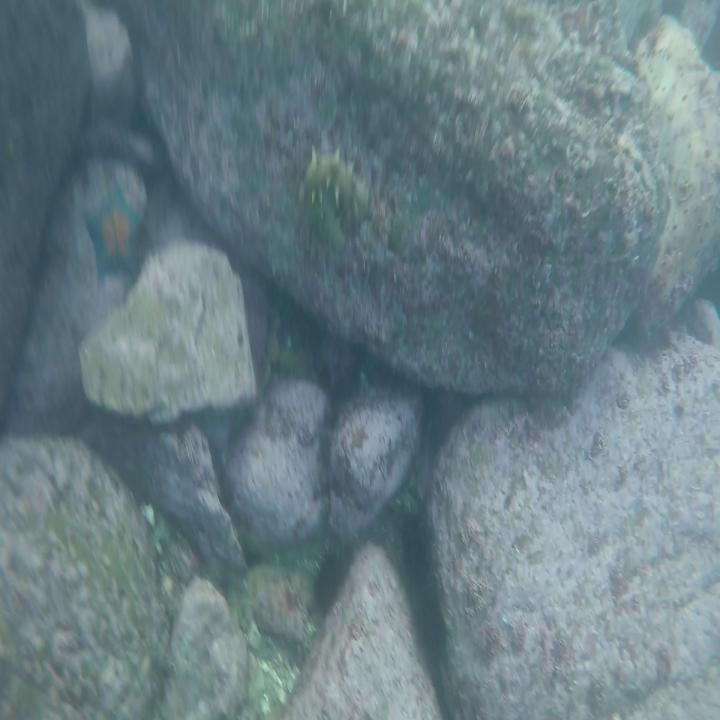echinus: (306, 546, 352, 617)
holothurian: (299, 145, 372, 233)
starfish: (82, 182, 144, 288)
